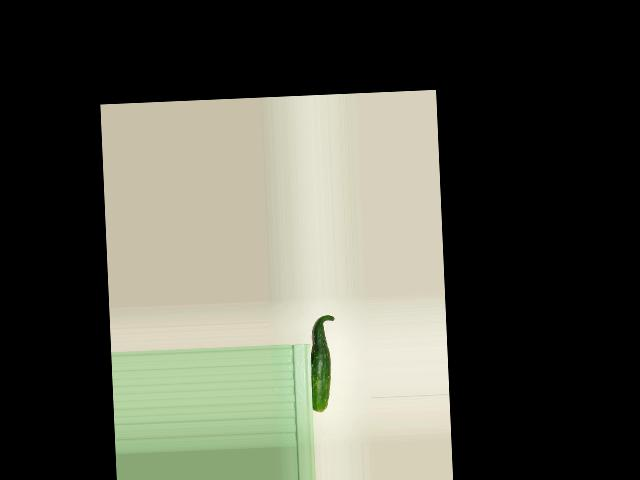cucumber: (308, 314, 338, 412)
